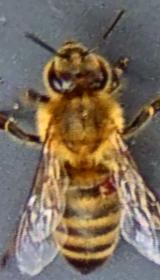varroa_mite: (96, 176, 119, 196)
